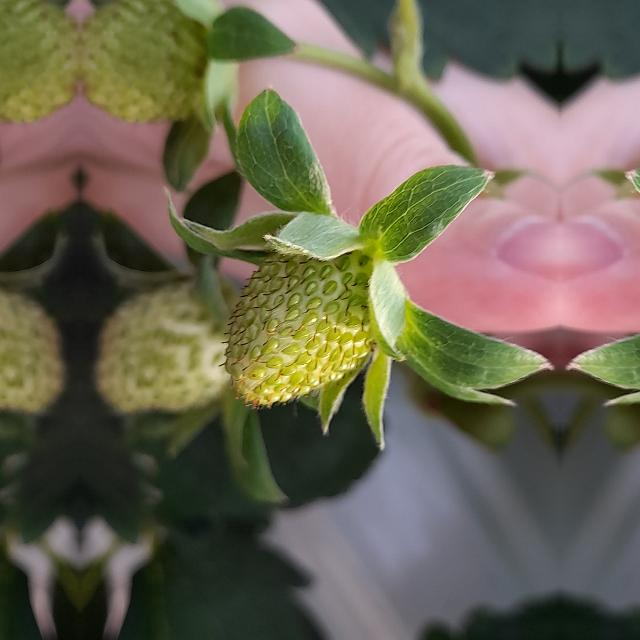Health_25: (217, 250, 376, 410)
